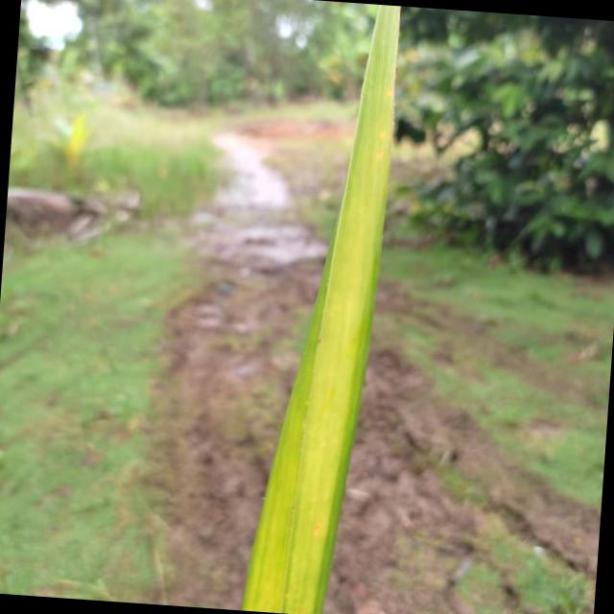nitrogen: (238, 0, 402, 614)
